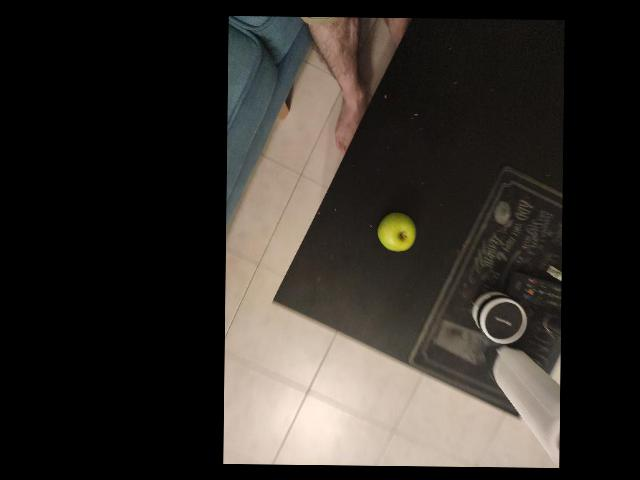apple: (291, 260, 350, 319)
